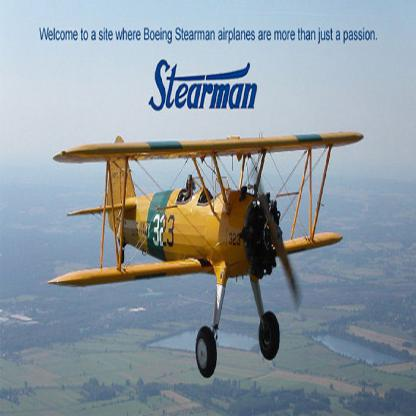CIV_Plane: (44, 128, 365, 387)
